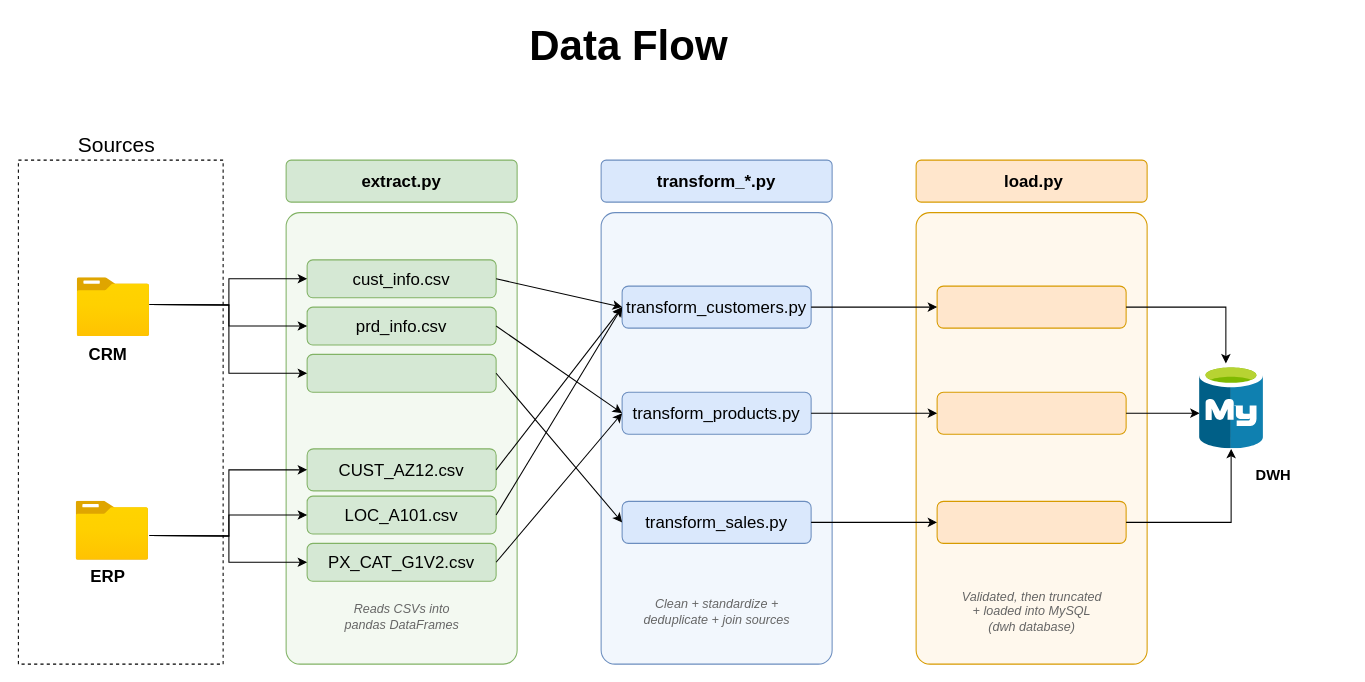
The diagram is 1365 pixels wide and 682 high, and some of its shapes have lost their labels. The centre of each missing label's shape, as x and y in pixels:
"dim_customers" goes at (1031,306).
"dim_products" goes at (1031,412).
"fact_sales" goes at (1031,521).
"sales_details.csv" goes at (401,372).
